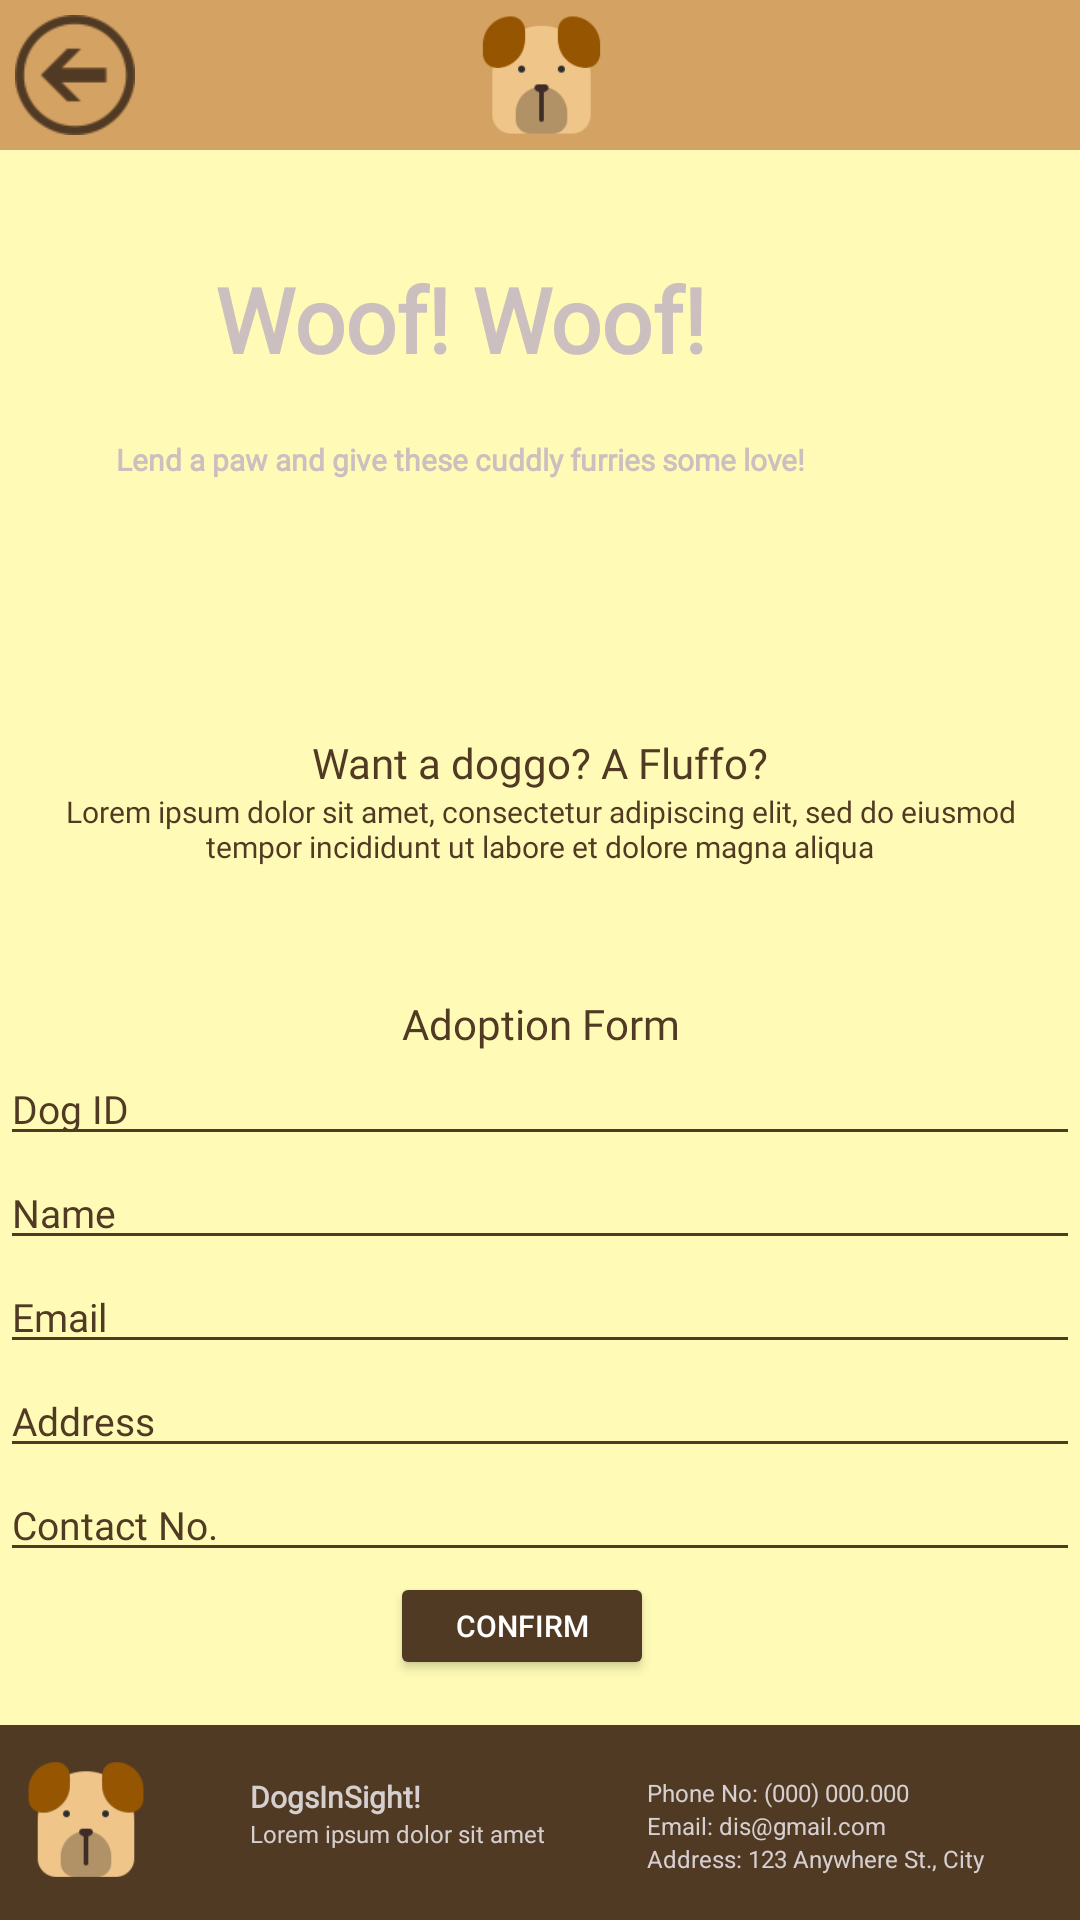

Screen size 1080 × 1920. Icon name, then its center in pixels as (x,y):
back: (75,75)
